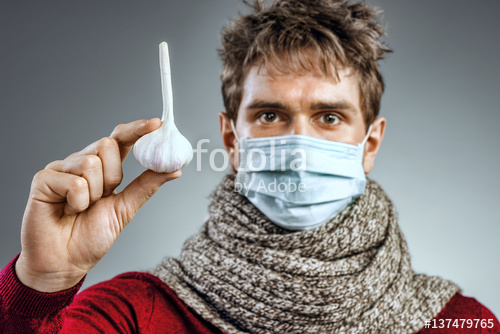mask: (239, 141, 369, 224)
